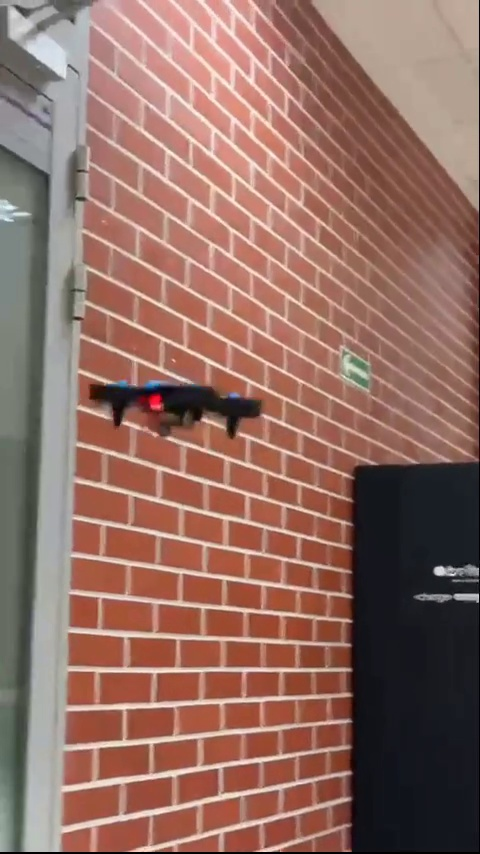drone: (94, 378, 266, 440)
